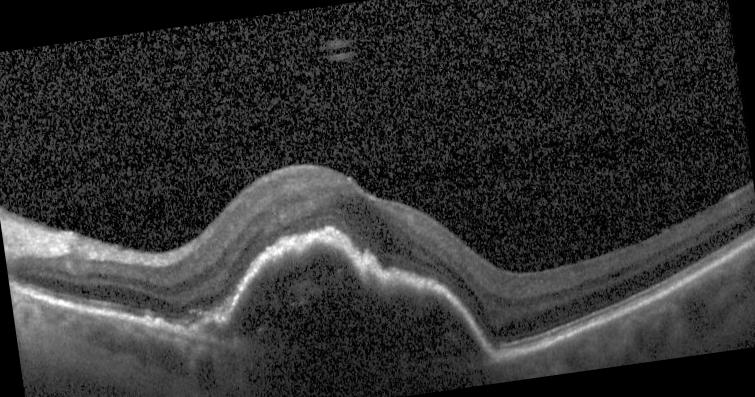subretinal_fluid: (199, 241, 484, 361)
